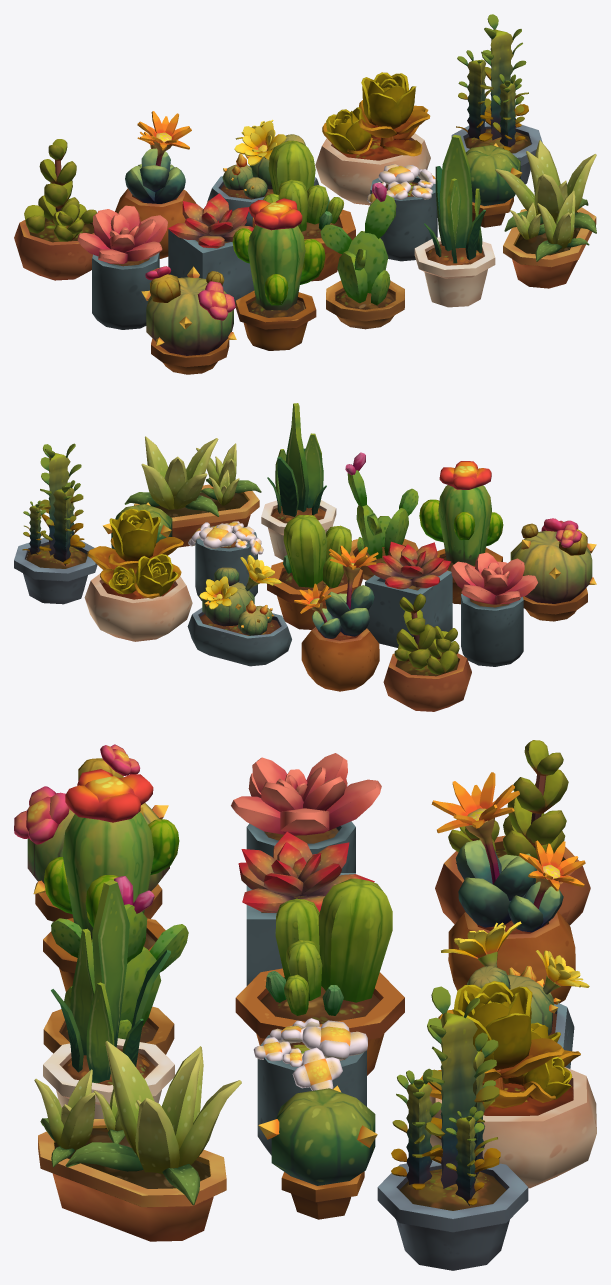
3 renders of one model, top to bottom at view 1: azimuth 30°, elevation 25°; view 2: azimuth 150°, elevation 25°; view 3: azimuth 270°, elevation 25°, orthographic. The views are drawn at different scales.
Visible parts, largest first — view 1: pot_002, pot_014, pot_005, pot_004, pot_001, pot_006, pot_003, pot_015, pot_011, pot_007, pot_012, pot_008 (+3 smaller); view 2: pot_014, pot_005, pot_015, pot_012, pot_013, pot_006, pot_011, pot_007, pot_001, pot_002, pot_008, pot_004 (+3 smaller); view 3: pot_005, pot_015, pot_008, pot_014, pot_012, pot_002, pot_004, pot_010, pot_006, pot_011, pot_009, pot_007 (+3 smaller).
Boxes of the visible parts, left/top/right/bottom form: pot_002: left=232, top=198, right=325, bottom=350; pot_014: left=315, top=72, right=430, bottom=205; pot_005: left=495, top=140, right=596, bottom=288; pot_004: left=414, top=135, right=495, bottom=307; pot_001: left=141, top=266, right=236, bottom=374; pot_006: left=77, top=205, right=167, bottom=329; pot_003: left=320, top=182, right=404, bottom=329; pot_015: left=451, top=14, right=542, bottom=184; pot_011: left=14, top=139, right=96, bottom=280; pot_007: left=168, top=193, right=254, bottom=305; pot_012: left=115, top=111, right=196, bottom=258; pot_008: left=252, top=140, right=355, bottom=281; pot_014: left=84, top=508, right=192, bottom=641; pot_005: left=124, top=436, right=261, bottom=547; pot_015: left=14, top=443, right=97, bottom=604; pot_012: left=294, top=545, right=379, bottom=691; pot_013: left=187, top=555, right=291, bottom=666; pot_006: left=451, top=552, right=537, bottom=666; pot_011: left=383, top=593, right=471, bottom=711; pot_007: left=365, top=541, right=452, bottom=647; pot_001: left=510, top=518, right=596, bottom=621; pot_002: left=419, top=461, right=503, bottom=604; pot_008: left=267, top=515, right=362, bottom=629; pot_004: left=261, top=403, right=336, bottom=560; pot_005: left=34, top=1041, right=241, bottom=1241; pot_015: left=377, top=986, right=528, bottom=1270; pot_008: left=235, top=878, right=404, bottom=1075; pot_014: left=420, top=981, right=596, bottom=1188; pot_012: left=431, top=772, right=585, bottom=1003; pot_002: left=43, top=769, right=179, bottom=991; pot_004: left=43, top=880, right=174, bottom=1118; pot_010: left=258, top=1085, right=377, bottom=1219; pot_006: left=231, top=753, right=381, bottom=872; pot_011: left=435, top=740, right=590, bottom=925; pot_009: left=253, top=1018, right=367, bottom=1155; pot_007: left=238, top=831, right=374, bottom=985.
Bounding box in the file's own units: 0.5079 × 0.1583 × 0.3224.
15 materials, 15 textured.
